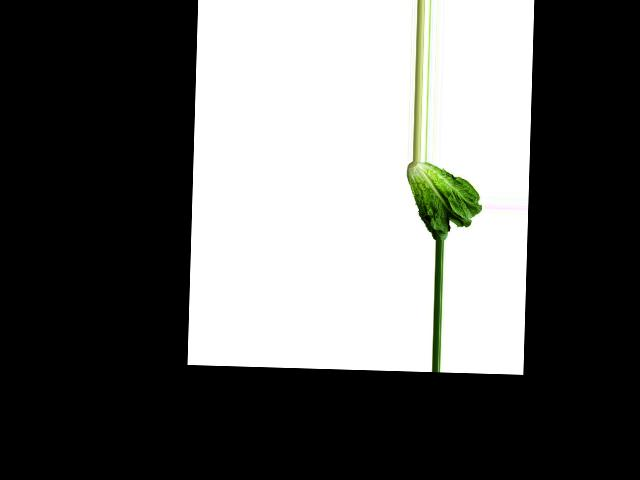lettuce: (404, 162, 484, 239)
